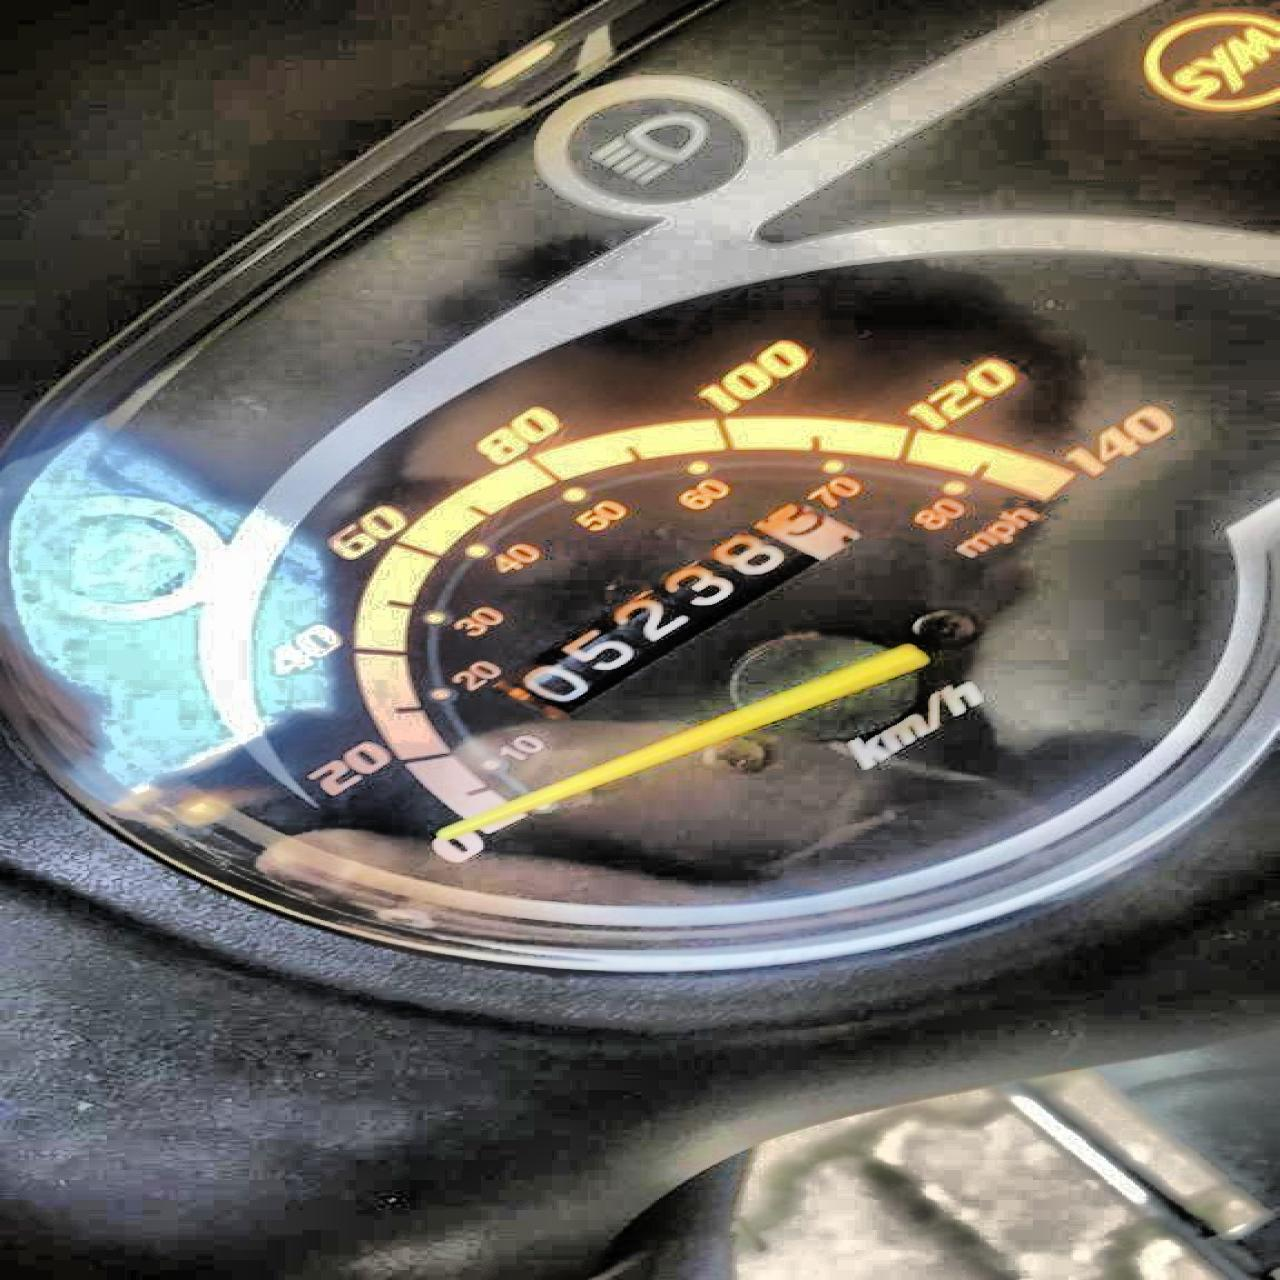0: (517, 663, 586, 702), (505, 543, 543, 564), (594, 499, 626, 523), (475, 602, 501, 627), (475, 659, 498, 681)
2: (611, 598, 686, 642)
3: (760, 501, 826, 538), (666, 566, 730, 605)
4: (488, 552, 518, 573)
5: (563, 627, 629, 668), (572, 509, 606, 531)
8: (708, 535, 779, 574)
odometer: (475, 496, 873, 726)
